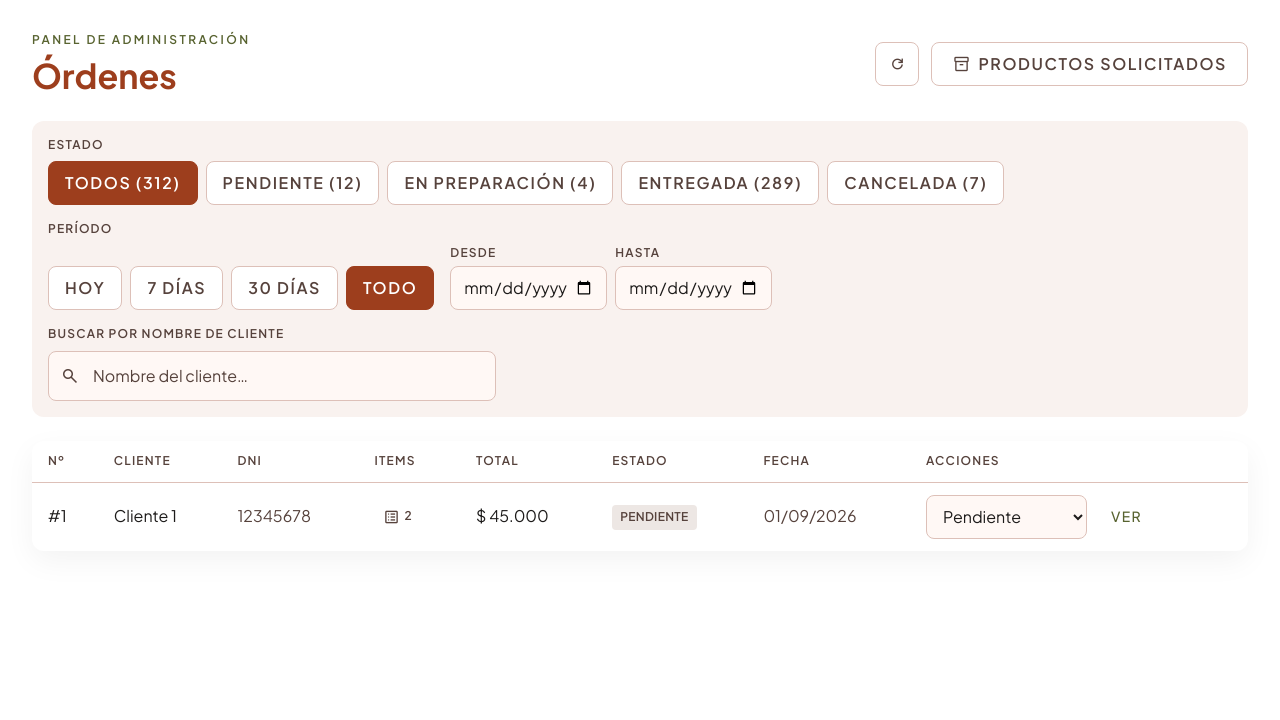
Test case: AdminOrdenes — cambio de estado desde la fila › confirmar guarda y actualiza el badge de la fila
Expected: the heading "Órdenes" is shown, [32,54,177,97]
Select "En preparación" in the dropdown named "Cambiar estado de la orden #1" at (1006, 516), box [926,494,1087,538]
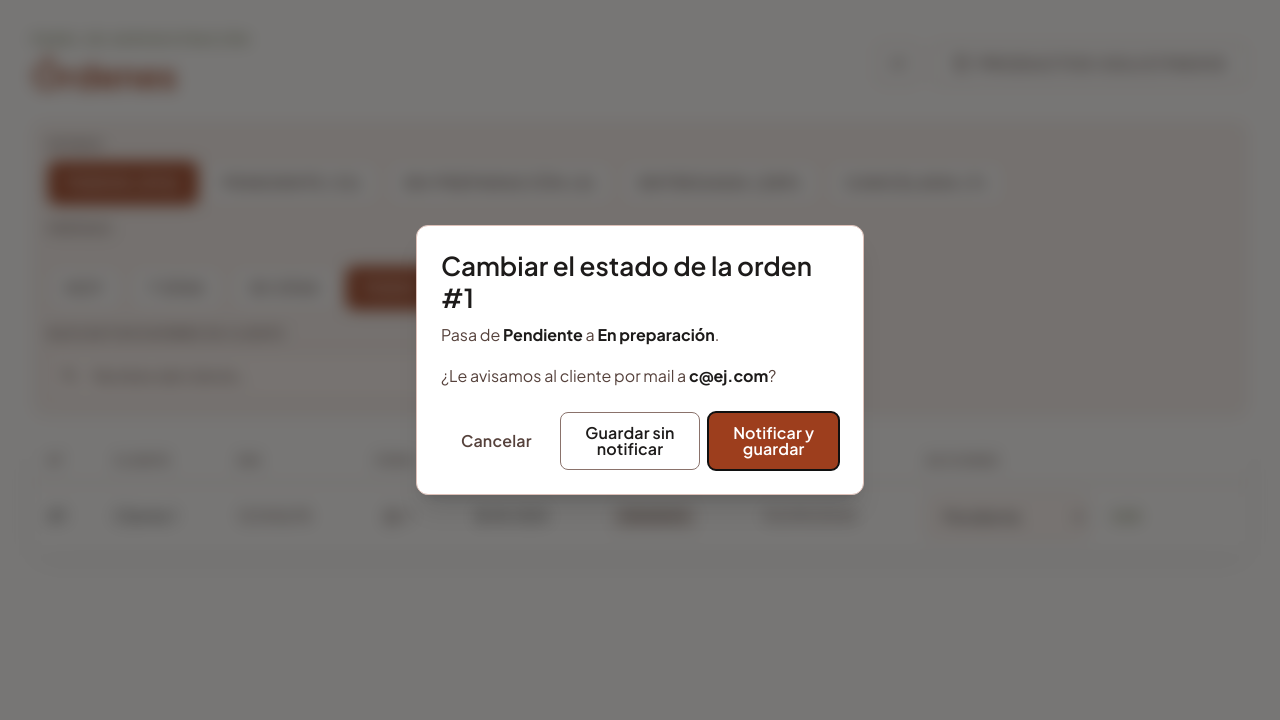
Click the button "Guardar sin notificar" at (630, 441), box [560,412,700,470]
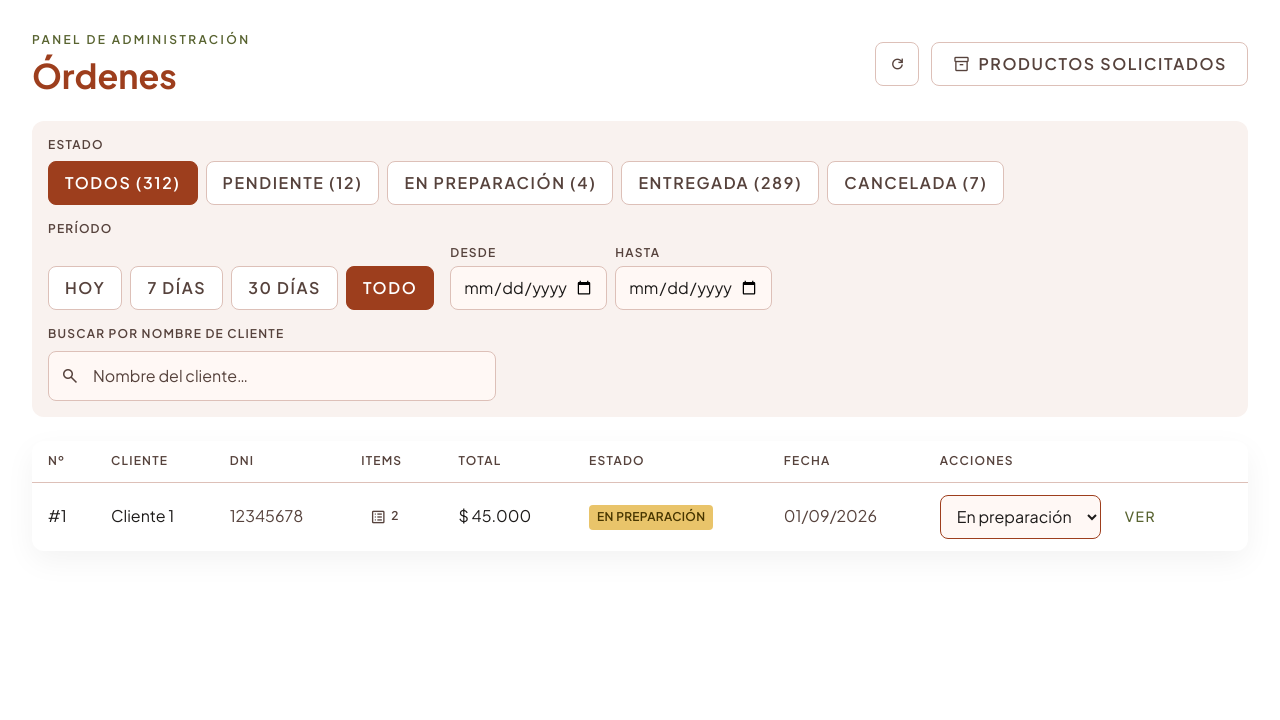
Result: the dialog is gone
Result: the cell "En preparación" is shown at [573,482,768,550]
